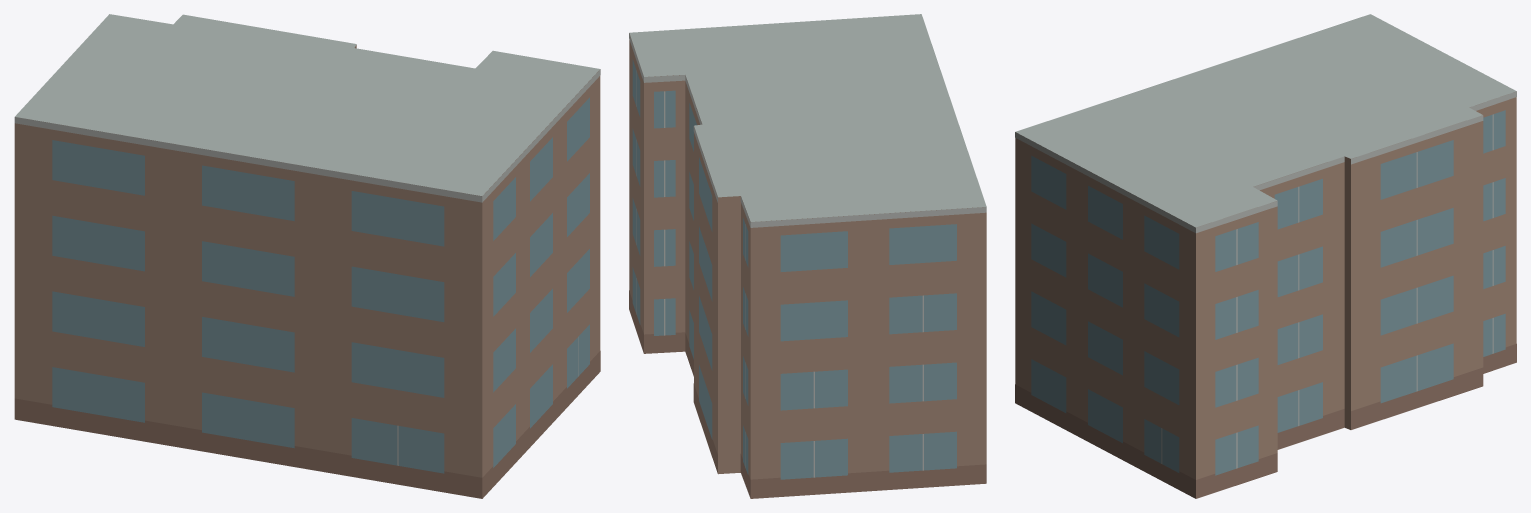
Rendered from survey-upis-32867963.glb.
The picture shows the model from 3 angles, left to right: view 1: azimuth 30°, elevation 25°; view 2: azimuth 150°, elevation 25°; view 3: azimuth 270°, elevation 25°; orthographic projection. The views are drawn at different scales.
Visible parts, largest first — view 1: survey-upis-32867963.tmp; view 2: survey-upis-32867963.tmp; view 3: survey-upis-32867963.tmp.
Part boxes in pixels (x1,y1,x2,y2): survey-upis-32867963.tmp: (14,14,600,498); survey-upis-32867963.tmp: (629,14,986,498); survey-upis-32867963.tmp: (1015,14,1516,498).
Size of the model in its own units: 19.42 by 11.5 by 19.28.
